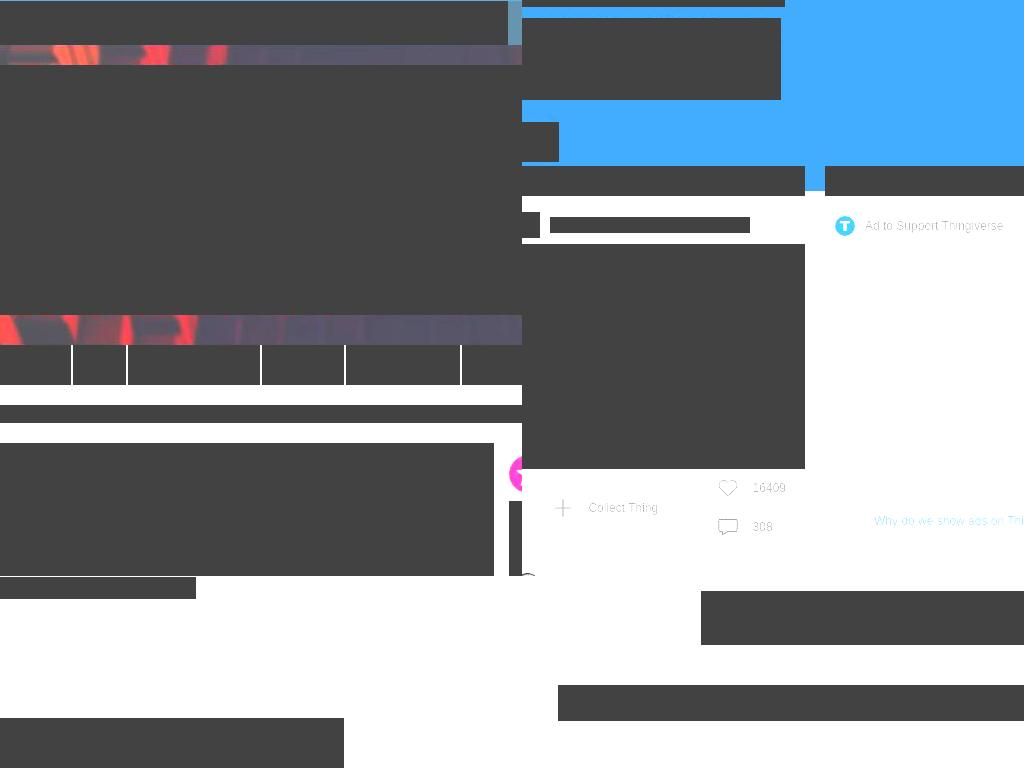button: (0, 443, 494, 576), (522, 244, 805, 469), (124, 718, 344, 768), (522, 166, 805, 196), (553, 469, 659, 546), (825, 166, 1024, 196), (128, 345, 260, 385), (346, 345, 460, 385), (335, 1, 434, 45), (242, 1, 335, 45), (2, 1, 94, 45), (94, 1, 183, 45), (262, 345, 344, 385), (434, 1, 508, 45), (0, 345, 71, 385), (183, 1, 242, 45), (462, 345, 522, 385), (73, 345, 126, 385), (522, 122, 559, 162), (717, 478, 786, 498), (717, 517, 773, 537), (522, 212, 540, 238)
field: (558, 685, 1024, 721)
heading: (701, 591, 1024, 645)
iframe: (0, 65, 522, 315), (825, 246, 1024, 496)
image: (0, 443, 494, 576), (522, 244, 805, 469), (144, 718, 324, 768), (522, 212, 540, 238), (553, 497, 574, 518), (717, 478, 738, 498), (717, 517, 738, 537), (840, 221, 850, 231)
text: (522, 18, 781, 100), (0, 405, 522, 423), (522, 170, 777, 192), (588, 469, 659, 546), (0, 577, 196, 599), (835, 170, 1024, 192), (550, 217, 750, 233), (865, 215, 1004, 237), (874, 513, 1024, 529), (522, 122, 549, 162), (752, 478, 786, 498), (752, 517, 773, 537)
